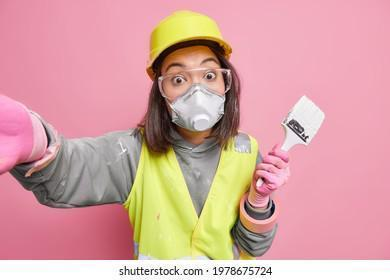helmet: (146, 10, 232, 80)
